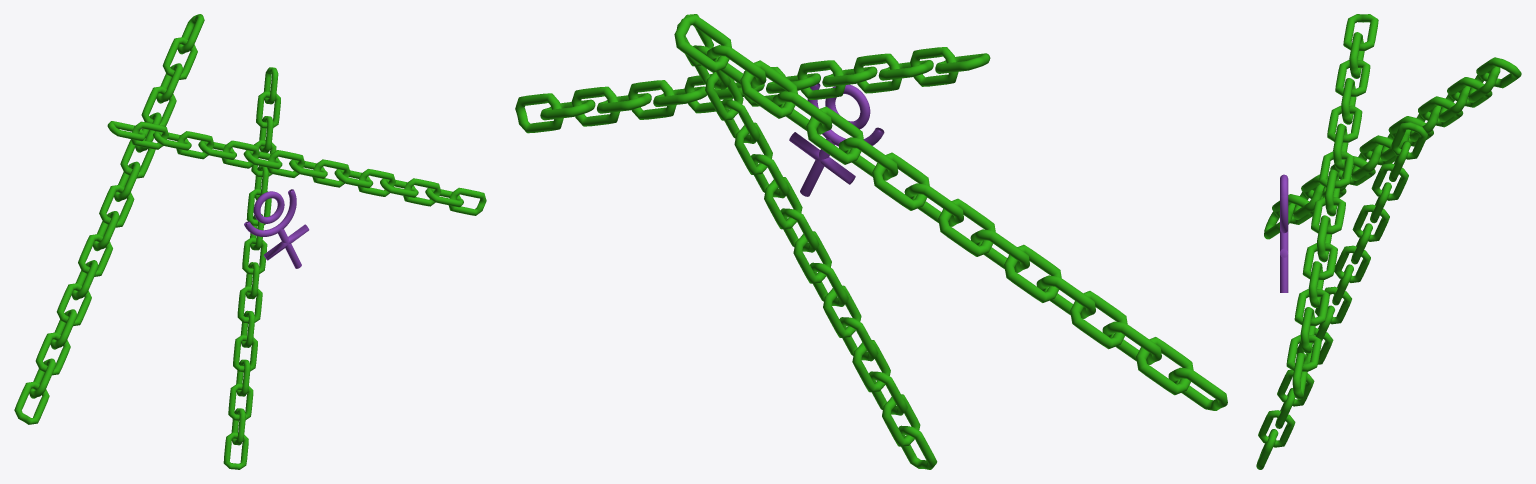
3 views of the same model, side by side, from view 1: azimuth 30°, elevation 25°; view 2: azimuth 150°, elevation 25°; view 3: azimuth 270°, elevation 25° (orthographic). The views are drawn at different scales.
Parts seen in each view (by area): view 1: Cylinder.002, Cylinder.014, Cylinder.001, Cylinder; view 2: Cylinder.002, Cylinder.001, Cylinder.014, Cylinder; view 3: Cylinder.014, Cylinder.001, Cylinder.002, Cylinder.
Part boxes in pixels (box(x1,y1,x2,y2)): Cylinder.002: box(14, 14, 204, 424); Cylinder.014: box(107, 121, 486, 215); Cylinder.001: box(223, 67, 280, 469); Cylinder: box(244, 189, 309, 268); Cylinder.002: box(674, 14, 1227, 410); Cylinder.001: box(676, 14, 937, 469); Cylinder.014: box(515, 47, 990, 133); Cylinder: box(789, 83, 884, 196); Cylinder.014: box(1286, 14, 1378, 399); Cylinder.001: box(1256, 122, 1427, 469); Cylinder.002: box(1264, 57, 1521, 239); Cylinder: box(1280, 174, 1288, 292).
Size of the model in its own units: 8.83 by 6.48 by 3.49.
